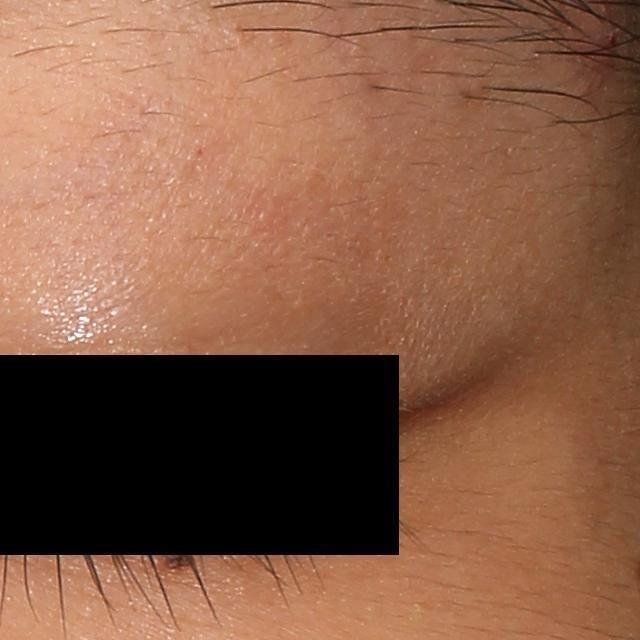nevus: (160, 546, 200, 572)
